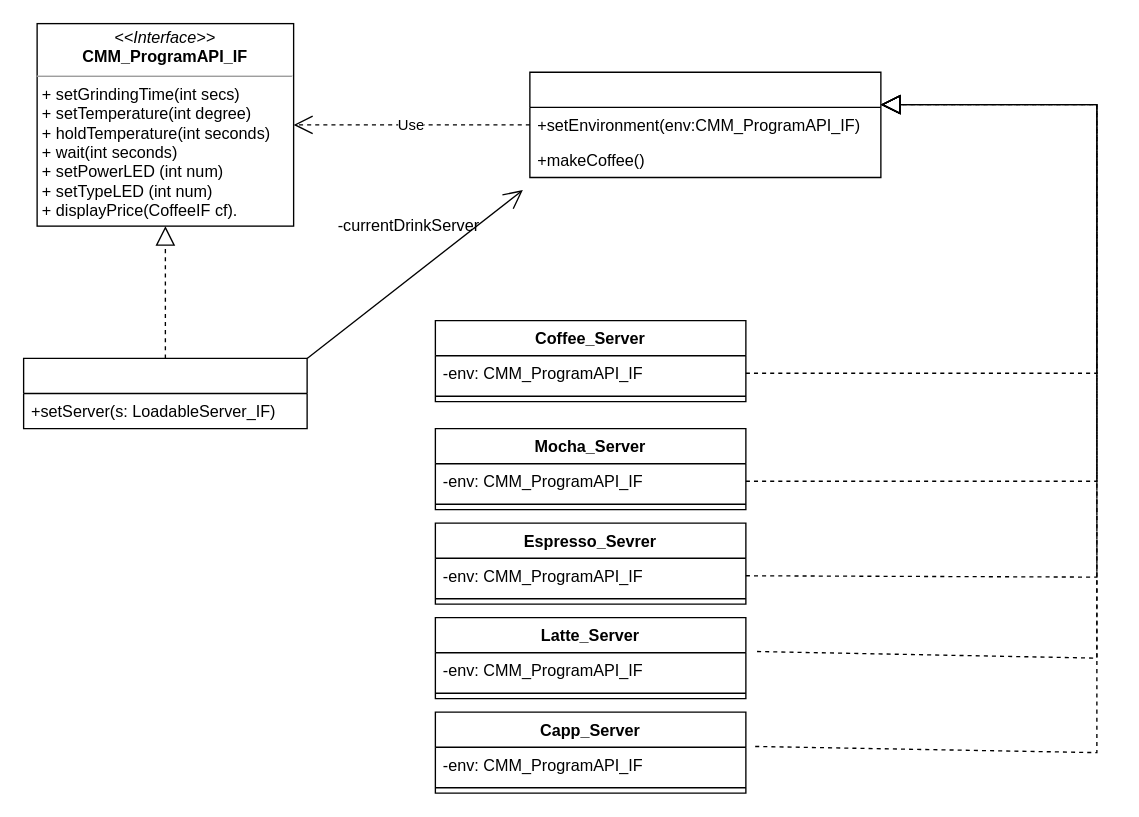
Image size: 1139x817. Some labels were removed from this diagram. The shapes that lost their labels are listed below. From the top down, each one's box as (x1, y1, x2, y2) in pixels, then its label:
(529, 71, 881, 178): CMM_LoadableServer_IF
(22, 357, 307, 429): CMMSystem
